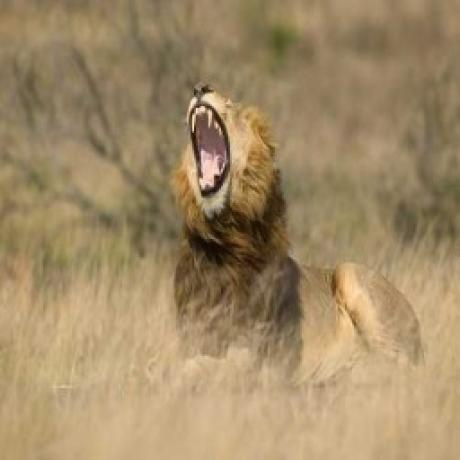Lion: (175, 80, 424, 379)
